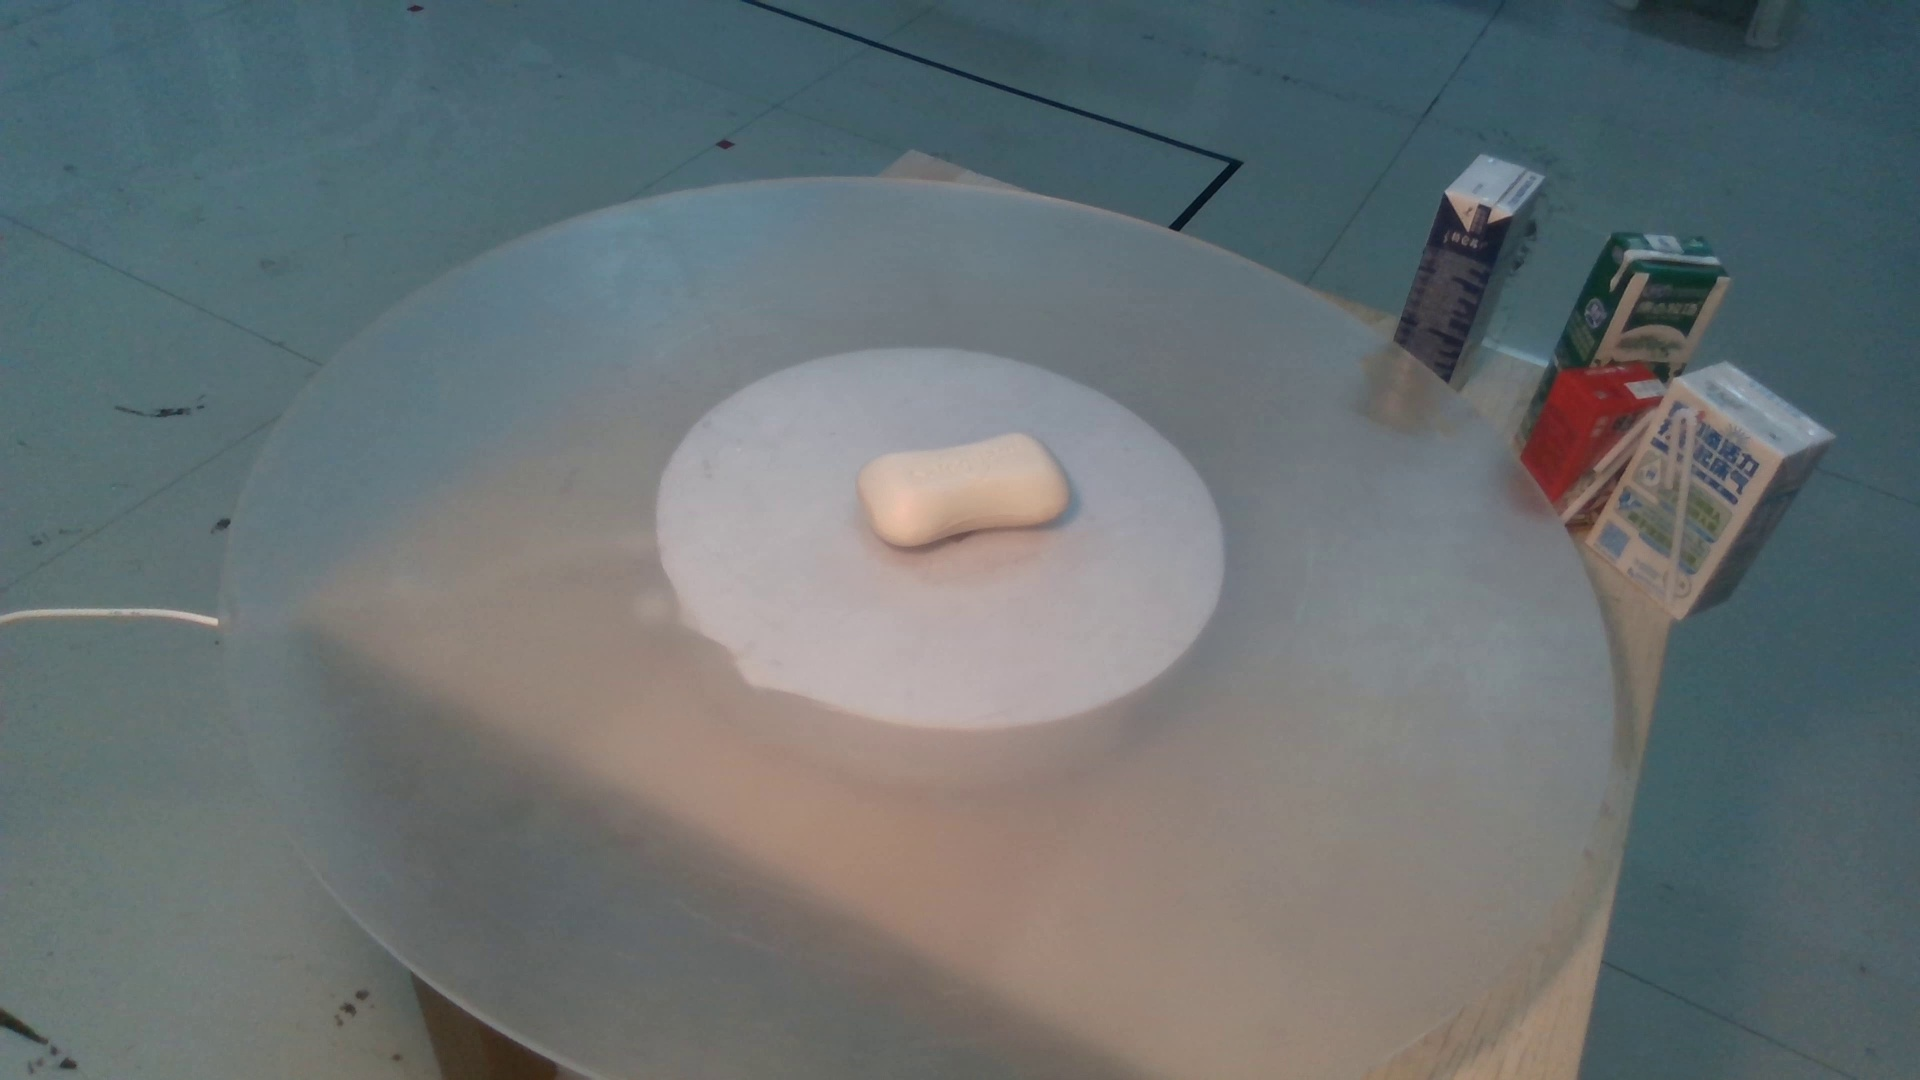CA003_1: (843, 413, 1113, 591)
